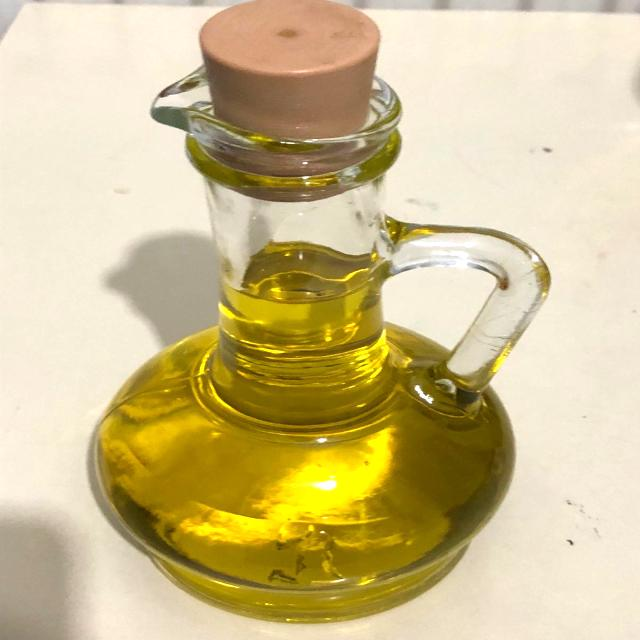olive oil: (93, 0, 563, 636)
